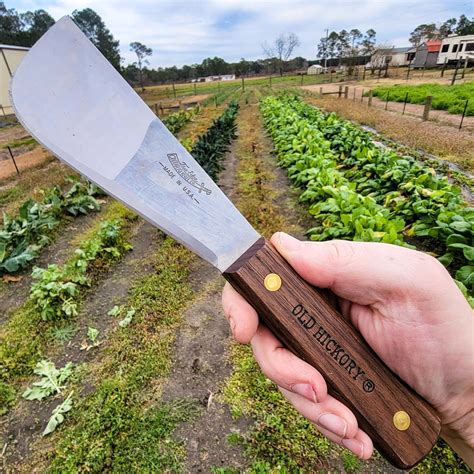knife: (12, 15, 442, 469)
